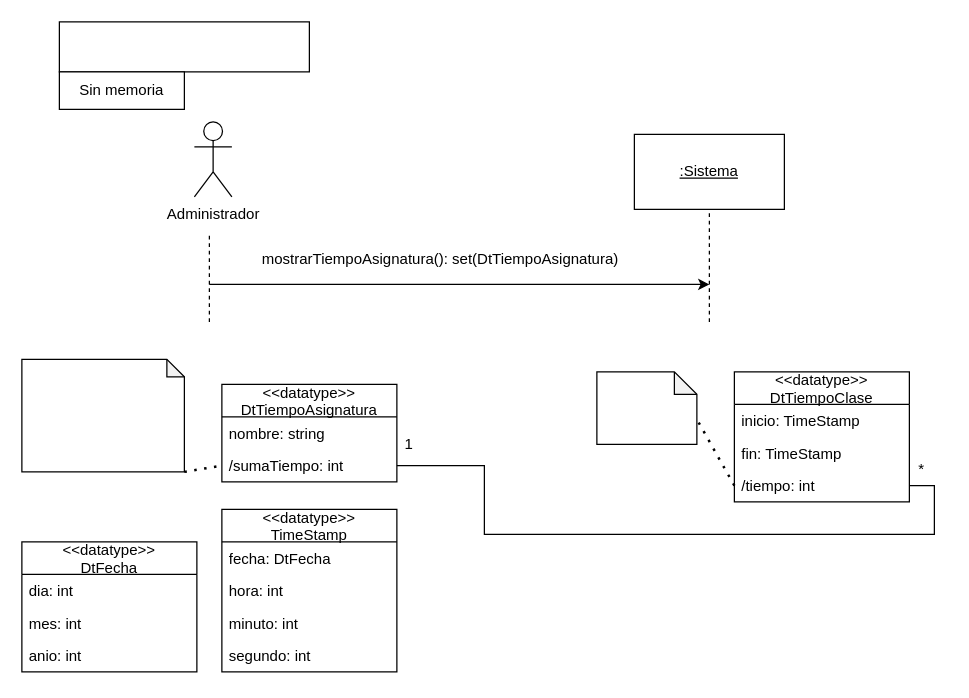
Some shapes in this 969 by 698 pixel diagram are drawn without their labels. Each missing label, with the centre of its shape:
"fin-inicio" belongs at [646,407].
"Se suma el atributo tiempo de todas las instancias relacionadas de DtTiempoClase" belongs at [102,415].
"Tiempo de Dictado de Clases" belongs at [183,46].
